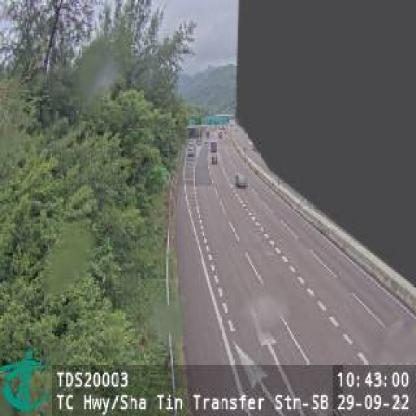Car: (233, 172, 248, 187)
